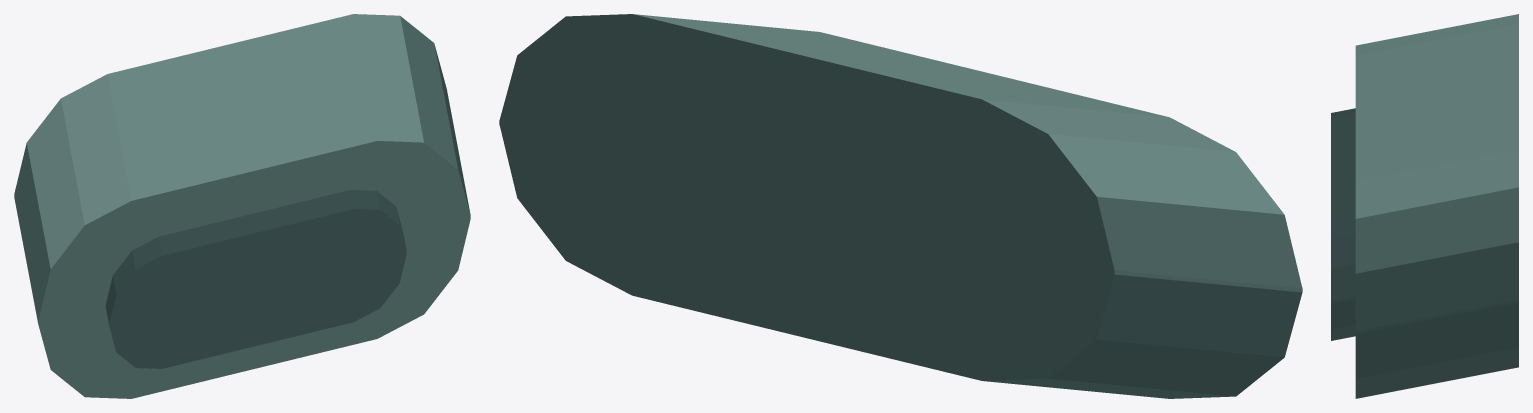
The model's file is Signal_LampOff.gltf.
3 renders of one model, left to right at view 1: azimuth 30°, elevation 25°; view 2: azimuth 150°, elevation 25°; view 3: azimuth 270°, elevation 25°, orthographic. The views are drawn at different scales.
Visible parts, largest first — view 1: Signal_LampOff_baked; view 2: Signal_LampOff_baked; view 3: Signal_LampOff_baked.
Boxes of the visible parts, x1,y1,x2,y2 form: Signal_LampOff_baked: [14, 14, 470, 398]; Signal_LampOff_baked: [499, 14, 1302, 398]; Signal_LampOff_baked: [1331, 14, 1518, 398].
Bounding box in the file's own units: 0.36 × 0.18 × 0.115.
